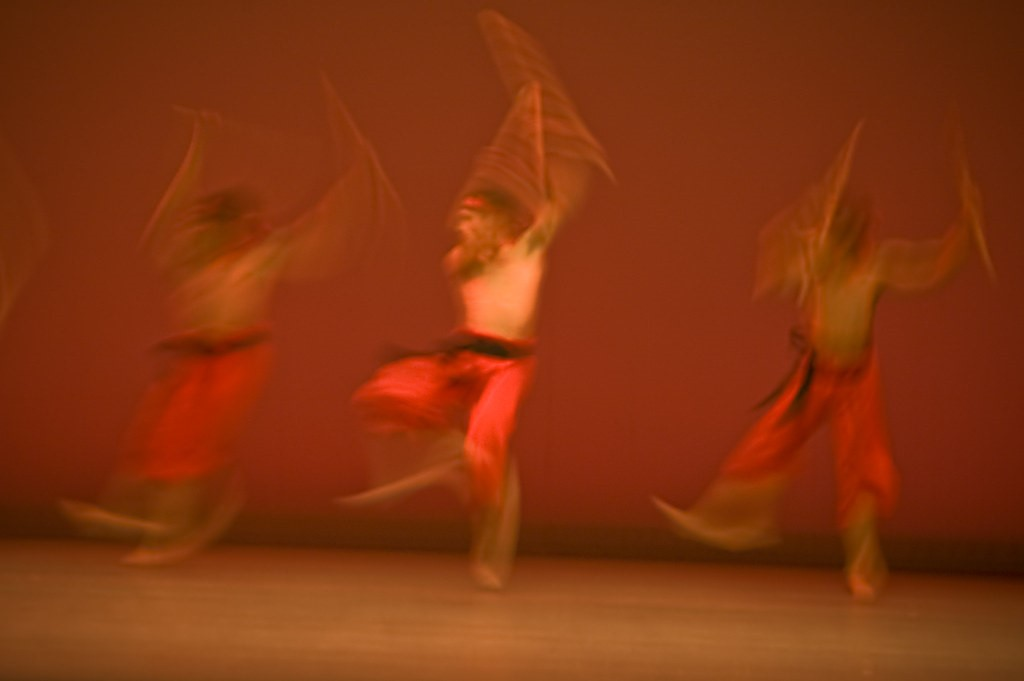baston_e: (798, 131, 864, 282), (321, 78, 390, 205), (530, 88, 559, 216), (960, 179, 994, 257)
baston_v: (380, 186, 410, 212), (314, 56, 337, 88), (793, 287, 818, 314), (848, 110, 872, 136), (525, 74, 547, 99), (979, 261, 1004, 280)
